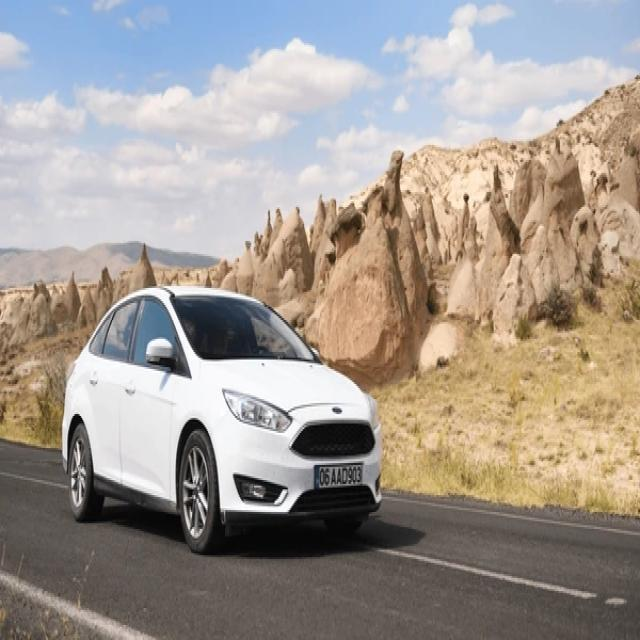ford: (326, 400, 351, 420)
